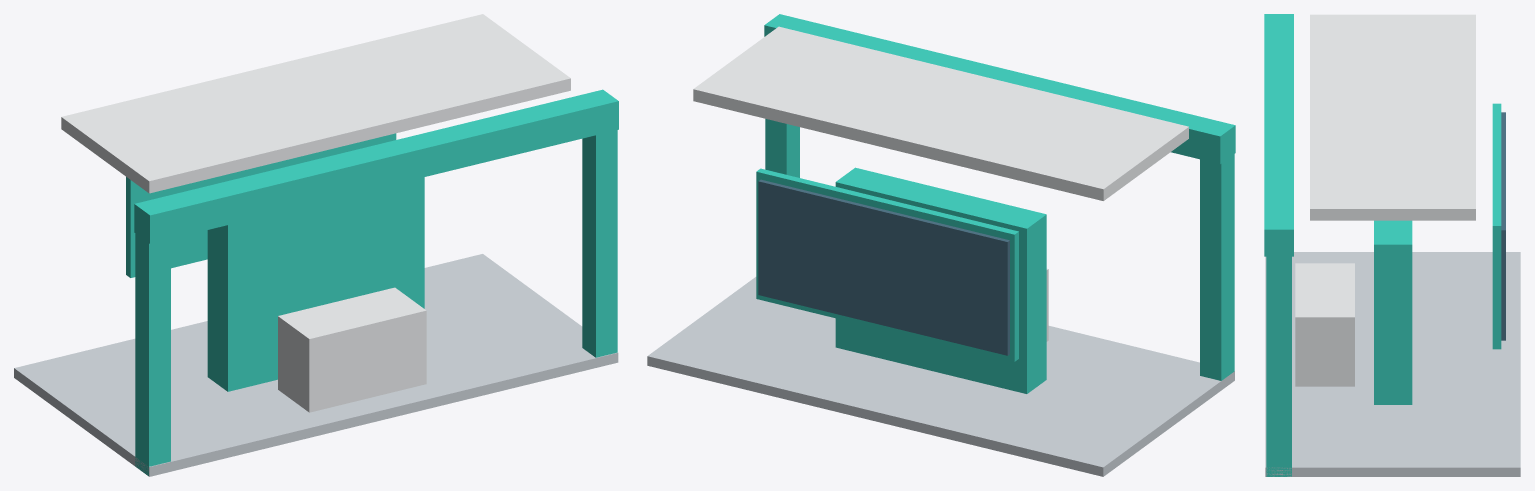
3 views of the same model, side by side, from view 1: azimuth 30°, elevation 25°; view 2: azimuth 150°, elevation 25°; view 3: azimuth 270°, elevation 25° (orthographic). The views are drawn at different scales.
Visible parts, largest first — view 1: Exhibition Booth Concept; view 2: Exhibition Booth Concept; view 3: Exhibition Booth Concept.
Boxes of the visible parts, x1,y1,x2,y2 form: Exhibition Booth Concept: [14, 14, 618, 476]; Exhibition Booth Concept: [647, 14, 1235, 476]; Exhibition Booth Concept: [1264, 14, 1520, 476].
Size of the model in its own units: 6 by 3.34 by 3.01.
